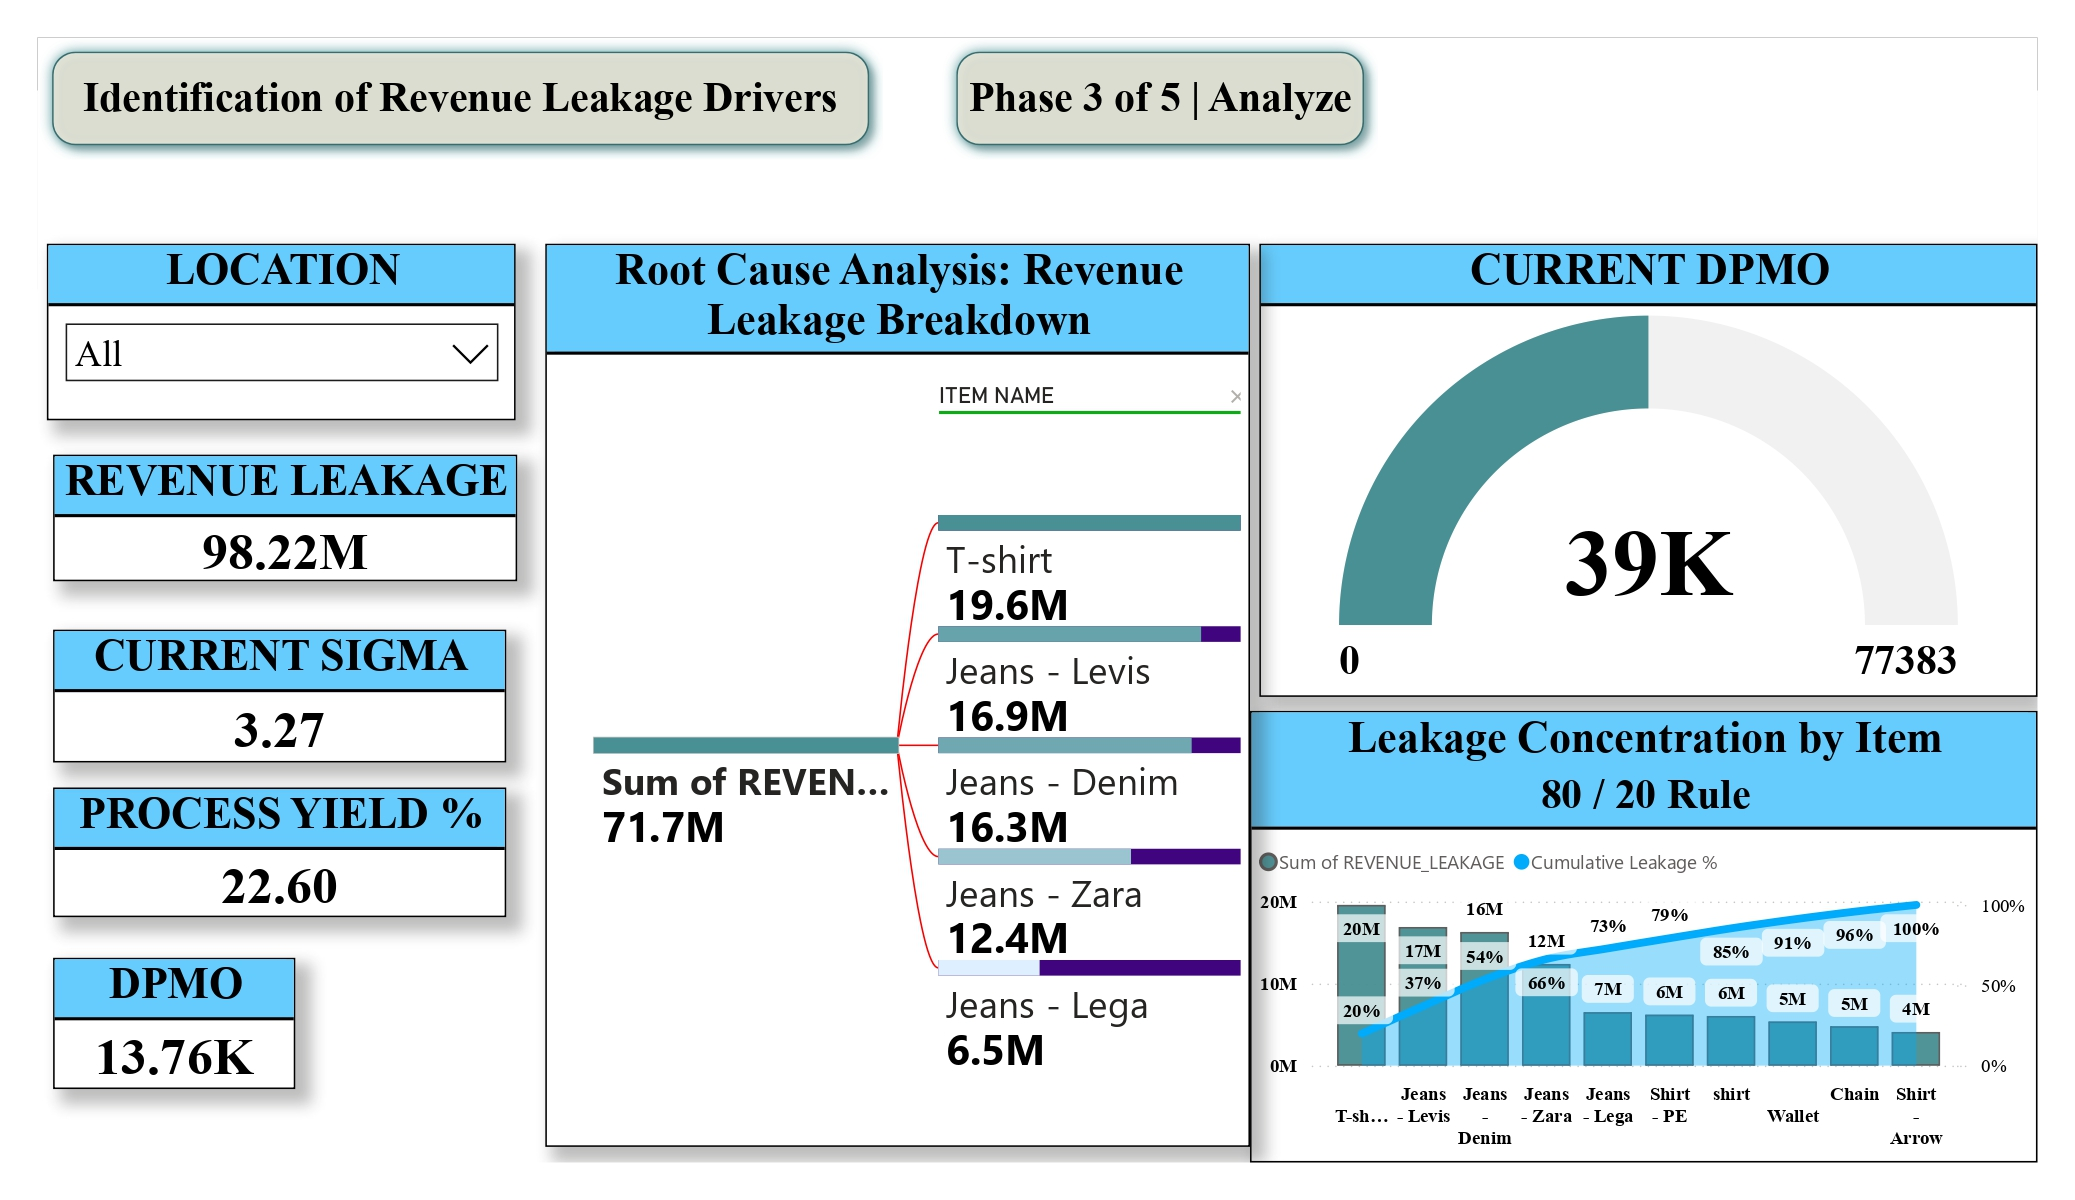

This screenshot's page, from the dashboard's own definition file:
{"tool":"powerbi","page":{"name":"Root Cause Analyze","canvas":[1280,720],"ordinal":3},"visuals":[{"type":"card","title":"REVENUE LEAKAGE","fields":{"Values":["Sum(Cleaned_Project_Nexus_Master.REVENUE_LEAKAGE)"]},"box":[10.3,267.4,296.8,80.8],"z":1000},{"type":"gauge","title":"CURRENT DPMO","fields":{"Y":["Cleaned_Project_Nexus_Master.DPMO"]},"box":[781.7,132.2,498.1,289.5],"z":2000},{"type":"card","title":"DPMO","fields":{"Values":["CountNonNull(Cleaned_Project_Nexus_Master.IS_SYSTEM_ERROR)"]},"box":[10.3,589.2,154.3,83.8],"z":3000},{"type":"card","title":"PROCESS YIELD %","fields":{"Values":["Cleaned_Project_Nexus_Master.Yield %"]},"box":[10.3,480.5,289.5,82.3],"z":4000},{"type":"card","title":"CURRENT SIGMA","fields":{"Values":["Cleaned_Project_Nexus_Master.Current_Sigma_Level"]},"box":[10.3,379.1,289.5,85.2],"z":5000},{"type":"lineClusteredColumnComboChart","title":"Leakage Concentration by Item","fields":{"Category":["Cleaned_Project_Nexus_Master.ITEM NAME"],"Y":["Sum(Cleaned_Project_Nexus_Master.REVENUE_LEAKAGE)"],"Y2":["Cleaned_Project_Nexus_Master.Cumulative Leakage %"]},"box":[775.8,430.5,504,289.5],"z":6000},{"type":"decompositionTreeVisual","title":"Root Cause Analysis: Revenue Leakage Breakdown","fields":{"ExplainBy":["Cleaned_Project_Nexus_Master.ITEM NAME"],"Analyze":["Sum(Cleaned_Project_Nexus_Master.REVENUE_LEAKAGE)"]},"box":[324.7,132.2,451.1,577.5],"z":7000},{"type":"slicer","title":"LOCATION","fields":{"Values":["Cleaned_Project_Nexus_Master.LOCATION"]},"box":[5.9,132.2,299.8,113.1],"z":8000},{"type":"shape","box":[0,0,540.7,77.9],"z":10000},{"type":"shape","box":[578.9,0,279.2,77.9],"z":11000}]}

Visuals, with their boxes on the page's 1280x720 design canvas (x1, y1, x2, y2). These are canvas units, not pixel positions in the 2075x1200 screenshot, which may show the page scaled, cropped or inside an application window:
"REVENUE LEAKAGE" card: (10, 267, 307, 348)
"CURRENT DPMO" gauge: (782, 132, 1280, 422)
"DPMO" card: (10, 589, 165, 673)
"PROCESS YIELD %" card: (10, 480, 300, 563)
"CURRENT SIGMA" card: (10, 379, 300, 464)
"Leakage Concentration by Item" lineClusteredColumnComboChart: (776, 430, 1280, 720)
"Root Cause Analysis: Revenue Leakage Breakdown" decompositionTreeVisual: (325, 132, 776, 710)
"LOCATION" slicer: (6, 132, 306, 245)
shape: (0, 0, 541, 78)
shape: (579, 0, 858, 78)
